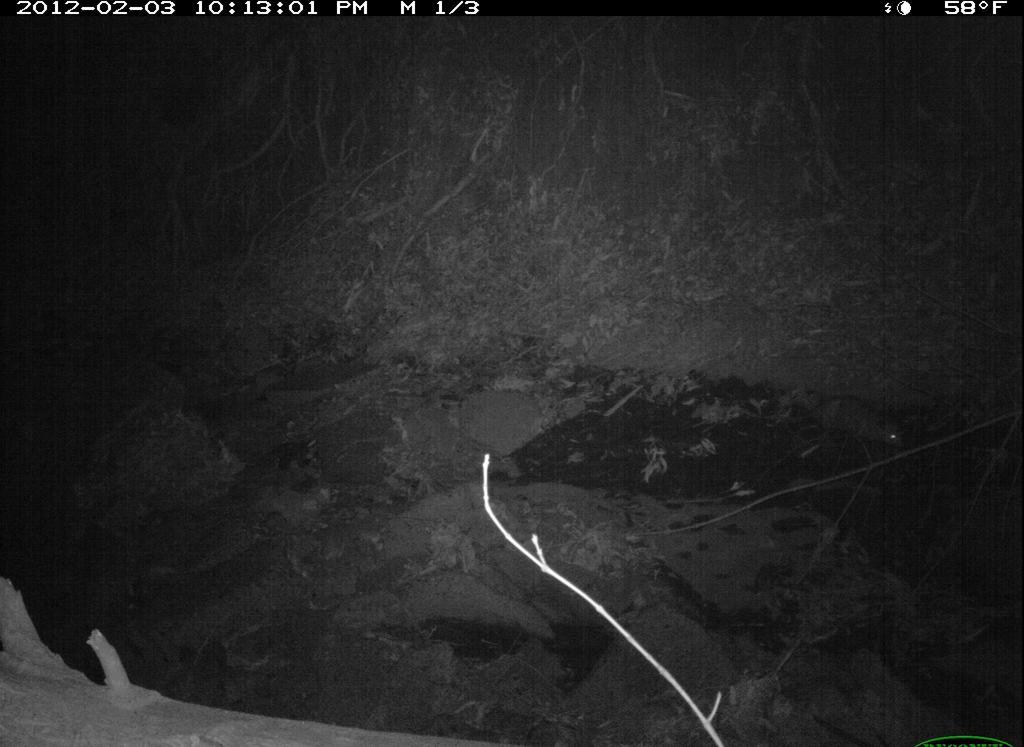opossum: (792, 387, 914, 455)
